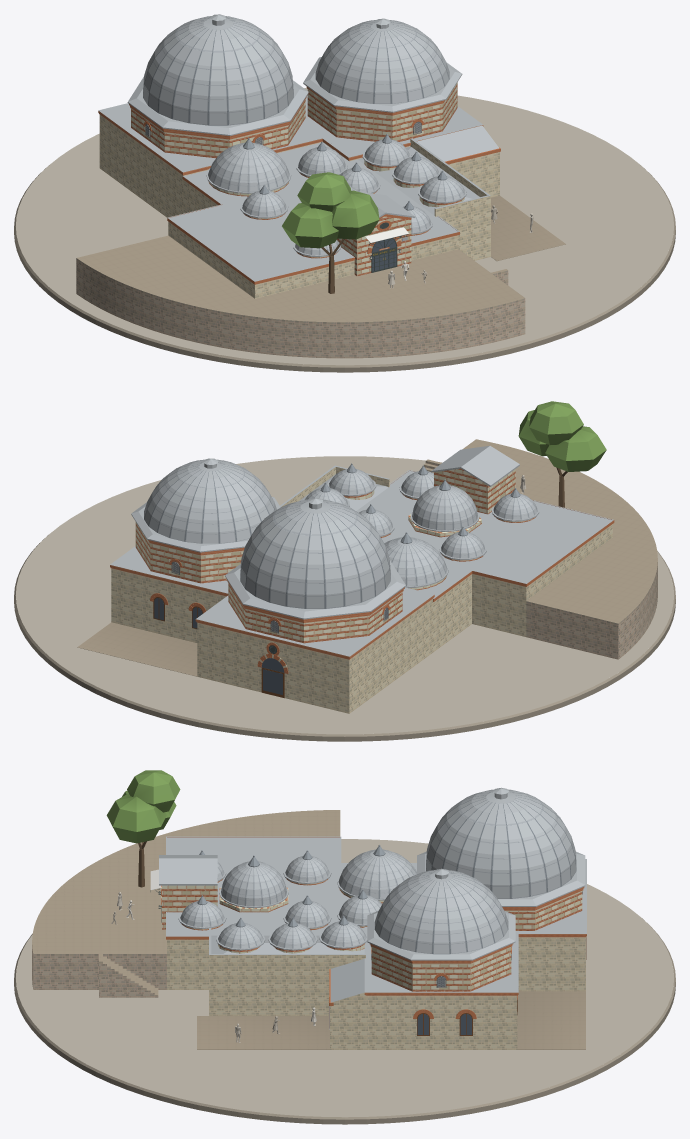
File: orhan-bey-hamami_v07_sunum.glb
3 views of the same model, one above another, from view 1: azimuth 30°, elevation 25°; view 2: azimuth 150°, elevation 25°; view 3: azimuth 270°, elevation 25° (orthographic).
Visible parts, largest first — view 1: Zemin_Kaide, Zemin_Set, Kubbe_Sogukluk_Erkek, Hamam_Sicaklik, Kubbe_Sogukluk_Kadin, Kubbe_Halvetler, Hamam_Sogukluk_Erkek, Cevre_Agac_01, Hamam_Detay, Hamam_Giris, Kubbe_Iliklik, Hamam_Giris_Kadin (+2 smaller); view 2: Zemin_Kaide, Kubbe_Sogukluk_Erkek, Zemin_Set, Hamam_Sicaklik, Hamam_Sogukluk_Erkek, Kubbe_Sogukluk_Kadin, Kubbe_Halvetler, Hamam_Detay, Hamam_Sogukluk_Kadin, Cevre_Agac_01, Hamam_Giris, Cevre_Doseme (+2 smaller); view 3: Zemin_Kaide, Zemin_Set, Hamam_Sicaklik, Kubbe_Sogukluk_Erkek, Kubbe_Sogukluk_Kadin, Kubbe_Halvetler, Hamam_Sogukluk_Kadin, Cevre_Doseme, Hamam_Sogukluk_Erkek, Cevre_Agac_01, Hamam_Detay, Hamam_Giris (+3 smaller).
Boxes of the visible parts, x1=… form: Zemin_Kaide: x1=14, y1=88, x2=675, y2=372; Zemin_Set: x1=76, y1=235, x2=525, y2=358; Kubbe_Sogukluk_Erkek: x1=127, y1=16, x2=308, y2=158; Hamam_Sicaklik: x1=168, y1=142, x2=490, y2=298; Kubbe_Sogukluk_Kadin: x1=303, y1=20, x2=462, y2=141; Kubbe_Halvetler: x1=240, y1=138, x2=490, y2=258; Hamam_Sogukluk_Erkek: x1=99, y1=103, x2=333, y2=217; Cevre_Agac_01: x1=282, y1=172, x2=379, y2=293; Hamam_Detay: x1=98, y1=14, x2=483, y2=284; Hamam_Giris: x1=337, y1=191, x2=415, y2=276; Kubbe_Iliklik: x1=206, y1=142, x2=291, y2=196; Hamam_Giris_Kadin: x1=417, y1=125, x2=500, y2=197; Zemin_Kaide: x1=14, y1=456, x2=675, y2=741; Kubbe_Sogukluk_Erkek: x1=225, y1=499, x2=405, y2=643; Zemin_Set: x1=423, y1=439, x2=657, y2=659; Hamam_Sicaklik: x1=356, y1=470, x2=612, y2=652; Hamam_Sogukluk_Erkek: x1=197, y1=588, x2=432, y2=713; Kubbe_Sogukluk_Kadin: x1=131, y1=459, x2=280, y2=583; Kubbe_Halvetler: x1=280, y1=465, x2=539, y2=561; Hamam_Detay: x1=110, y1=458, x2=614, y2=698; Hamam_Sogukluk_Kadin: x1=111, y1=547, x2=228, y2=642; Cevre_Agac_01: x1=518, y1=401, x2=606, y2=507; Hamam_Giris: x1=431, y1=445, x2=519, y2=514; Cevre_Doseme: x1=77, y1=622, x2=197, y2=676; Zemin_Kaide: x1=14, y1=839, x2=675, y2=1124; Zemin_Set: x1=32, y1=810, x2=340, y2=997; Hamam_Sicaklik: x1=167, y1=837, x2=416, y2=1015; Kubbe_Sogukluk_Erkek: x1=417, y1=789, x2=585, y2=930; Kubbe_Sogukluk_Kadin: x1=367, y1=870, x2=515, y2=991; Kubbe_Halvetler: x1=178, y1=856, x2=381, y2=962; Hamam_Sogukluk_Kadin: x1=366, y1=927, x2=517, y2=1049; Cevre_Doseme: x1=197, y1=991, x2=585, y2=1049; Hamam_Sogukluk_Erkek: x1=515, y1=859, x2=585, y2=991; Cevre_Agac_01: x1=106, y1=770, x2=180, y2=887; Hamam_Detay: x1=166, y1=787, x2=586, y2=1035; Hamam_Giris: x1=150, y1=855, x2=217, y2=929.
Bounding box in the file's own units: 54.96 × 15.8 × 54.96.
20 materials, 7 textured.
